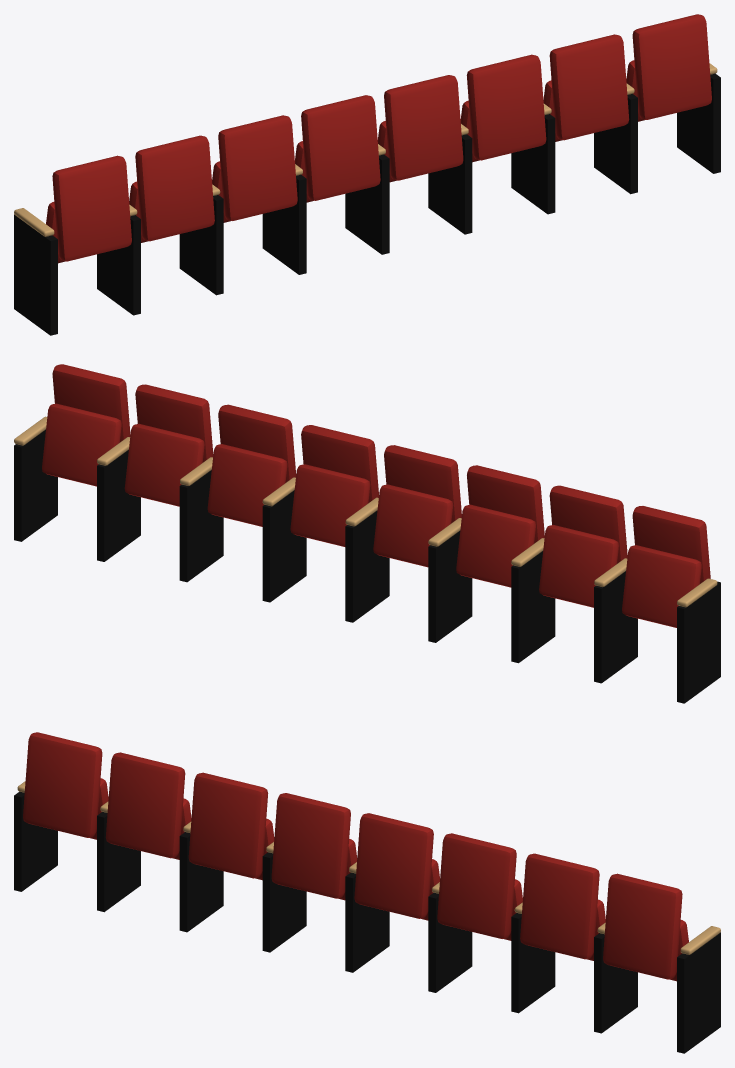
File: venue.seat.row_8.glb
3 views of the same model, one above another, from view 1: azimuth 30°, elevation 25°; view 2: azimuth 150°, elevation 25°; view 3: azimuth 330°, elevation 25° (orthographic).
Parts seen in each view (by area): view 1: main__fabric_red, main__plastic_black, main__glulam; view 2: main__fabric_red, main__plastic_black, main__glulam; view 3: main__fabric_red, main__plastic_black, main__glulam.
Part boxes in pixels (x1=…): main__fabric_red: x1=46, y1=14, x2=711, y2=263; main__plastic_black: x1=14, y1=73, x2=720, y2=335; main__glulam: x1=14, y1=63, x2=717, y2=236; main__fabric_red: x1=42, y1=364, x2=710, y2=627; main__plastic_black: x1=14, y1=429, x2=720, y2=703; main__glulam: x1=14, y1=416, x2=717, y2=607; main__fabric_red: x1=23, y1=732, x2=688, y2=981; main__plastic_black: x1=14, y1=791, x2=720, y2=1053; main__glulam: x1=17, y1=781, x2=720, y2=954.
Bounding box in the file's own units: 4.47 × 0.9937 × 0.4622.
